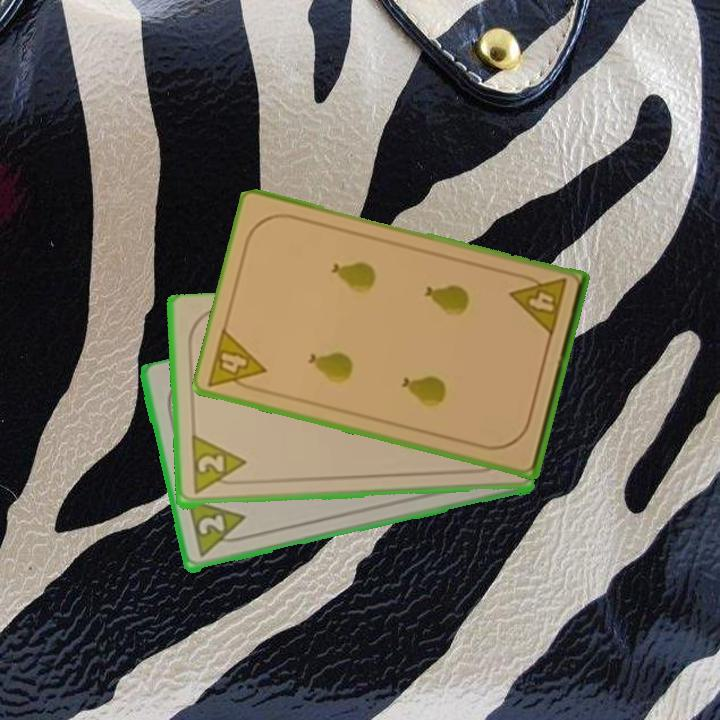2p: (183, 497, 252, 561), (187, 434, 248, 499)
4p: (205, 325, 269, 397), (507, 270, 569, 339)
